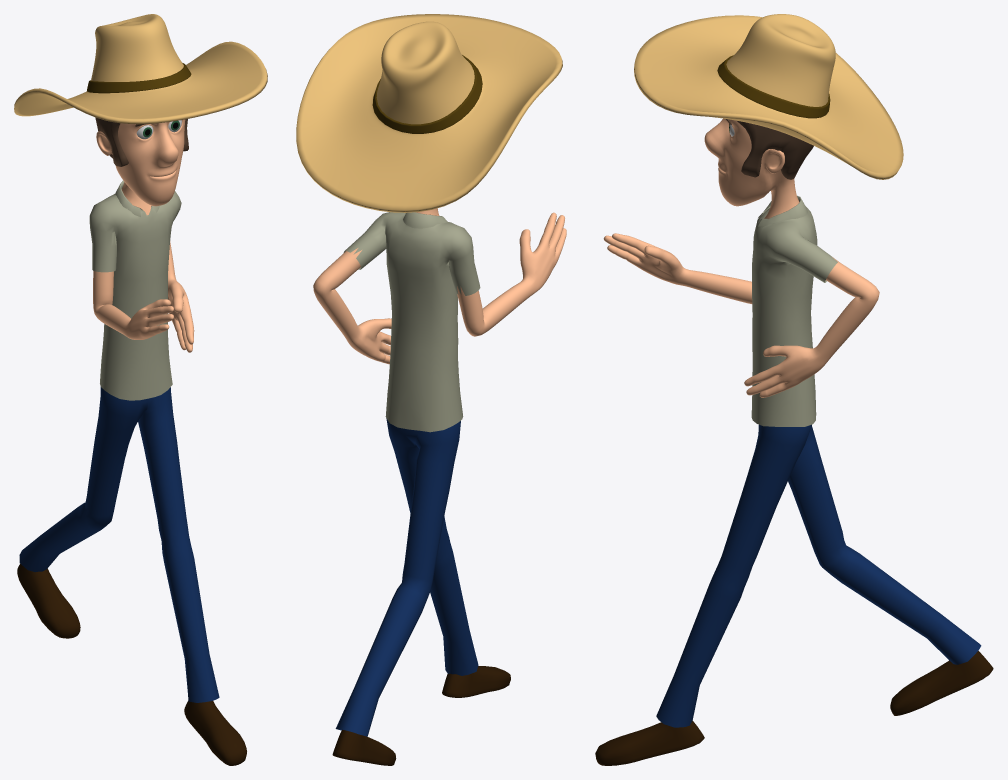
The model's file is GuyRun8.obj.
The picture shows the model from 3 angles, left to right: view 1: azimuth 30°, elevation 25°; view 2: azimuth 150°, elevation 25°; view 3: azimuth 270°, elevation 25°; orthographic projection. The views are drawn at different scales.
Size of the model in its own units: 2.18 by 7.3 by 3.59.
